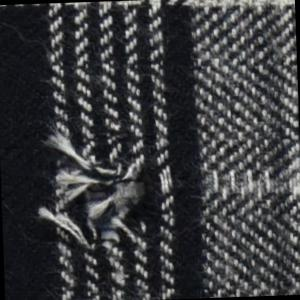Damage: (29, 113, 162, 270), (191, 159, 300, 210)
